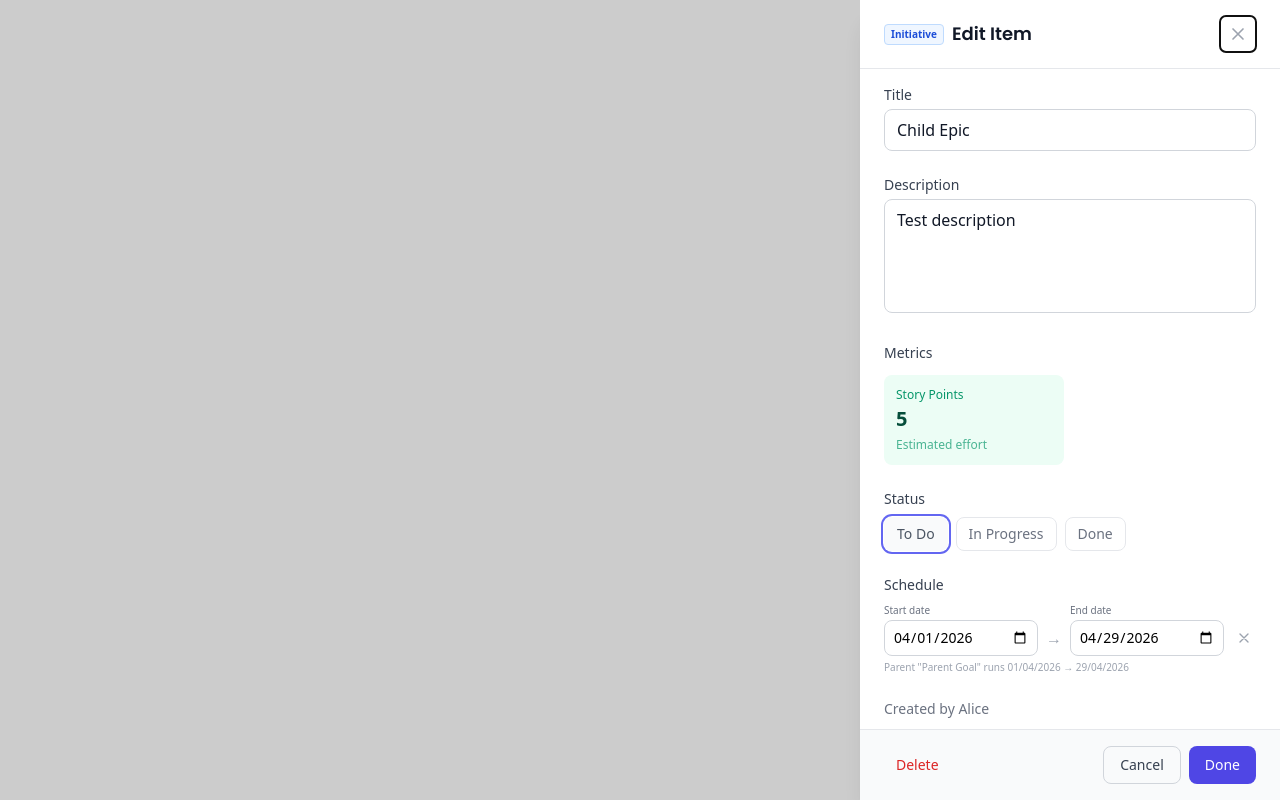
ItemDrawer › date validation enforcement › disables save button when dates exceed parent bounds
# Change end date to beyond parent's range
Type "2026-05-15" into the date field showing "2026-04-29" below "End date" at [1147, 638], box 1070,620 -> 1224,656
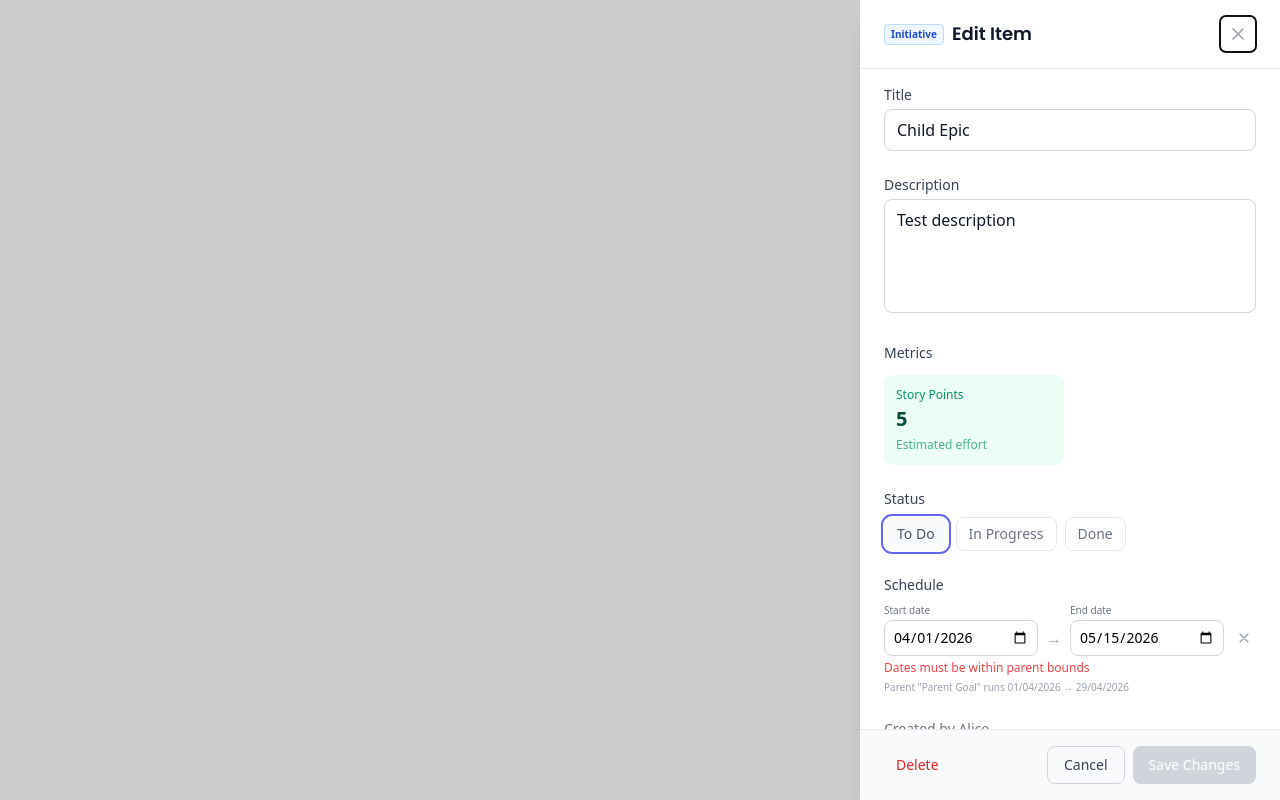
Check: the text "Dates must be within parent bounds" is shown, box 884,659 -> 1090,676
Check: the button "Save Changes" is disabled, box 1133,746 -> 1256,784
